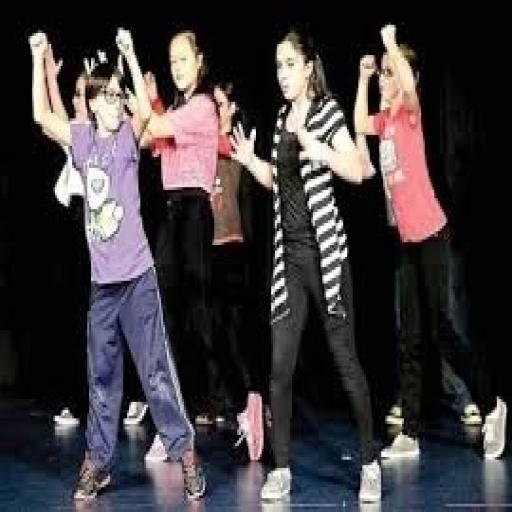dancing: (26, 25, 210, 506), (226, 20, 387, 510)
